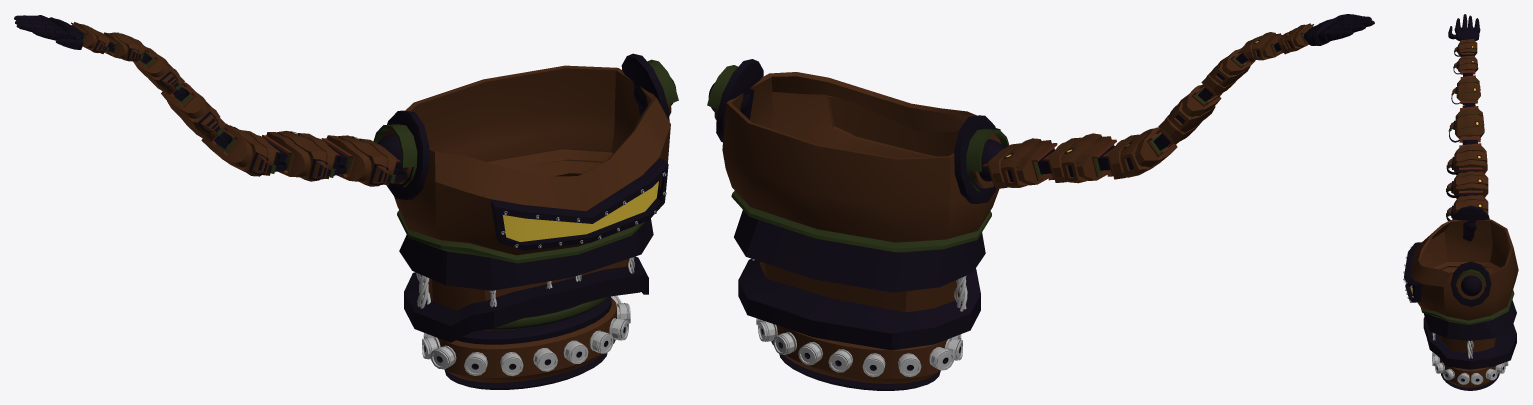
Rendered from Robot_Carcass.fbx.
3 views of the same model, side by side, from view 1: azimuth 30°, elevation 25°; view 2: azimuth 150°, elevation 25°; view 3: azimuth 270°, elevation 25° (orthographic). The views are drawn at different scales.
Visible parts, largest first — view 1: Body, Arm.001, BaseBody, Shoulder, Ornaments, Hand, Ornament3; view 2: Body, Arm.001, Shoulder, BaseBody, Ornaments, Hand; view 3: Body, Arm.001, Shoulder, Ornaments, BaseBody, Hand, Ornament3.
Part boxes in pixels (box(x1,y1,x2,y2)): Body: box(394, 65, 670, 342); Arm.001: box(71, 22, 407, 186); BaseBody: box(437, 296, 616, 389); Shoulder: box(373, 53, 678, 199); Ornaments: box(422, 295, 630, 376); Hand: box(14, 15, 83, 49); Ornament3: box(416, 257, 634, 308); Body: box(722, 72, 1000, 350); Arm.001: box(983, 23, 1313, 188); Shoulder: box(707, 59, 1009, 203); BaseBody: box(771, 325, 947, 390); Ornaments: box(756, 318, 962, 377); Hand: box(1303, 14, 1374, 45); Body: box(1404, 219, 1518, 369); Arm.001: box(1446, 39, 1488, 220); Shoulder: box(1450, 205, 1491, 306); Ornaments: box(1432, 352, 1508, 384); BaseBody: box(1439, 358, 1499, 390); Hand: box(1448, 14, 1480, 41); Ornament3: box(1432, 333, 1473, 358).
Size of the model in its own units: 3.81 by 2.66 by 1.15.
